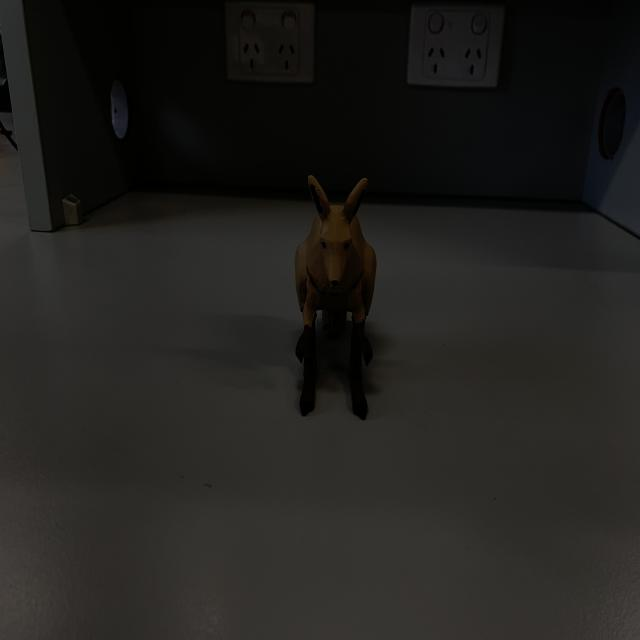kangaroo: (290, 167, 380, 416)
